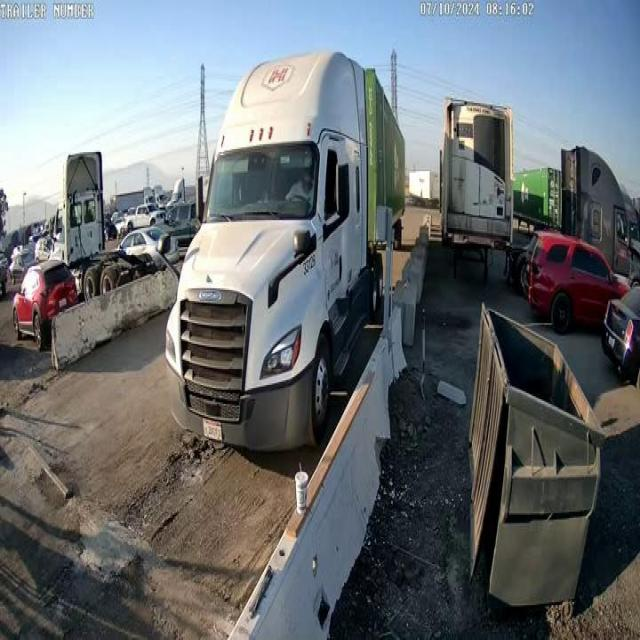TRUCK_OUT: (164, 49, 407, 455)
